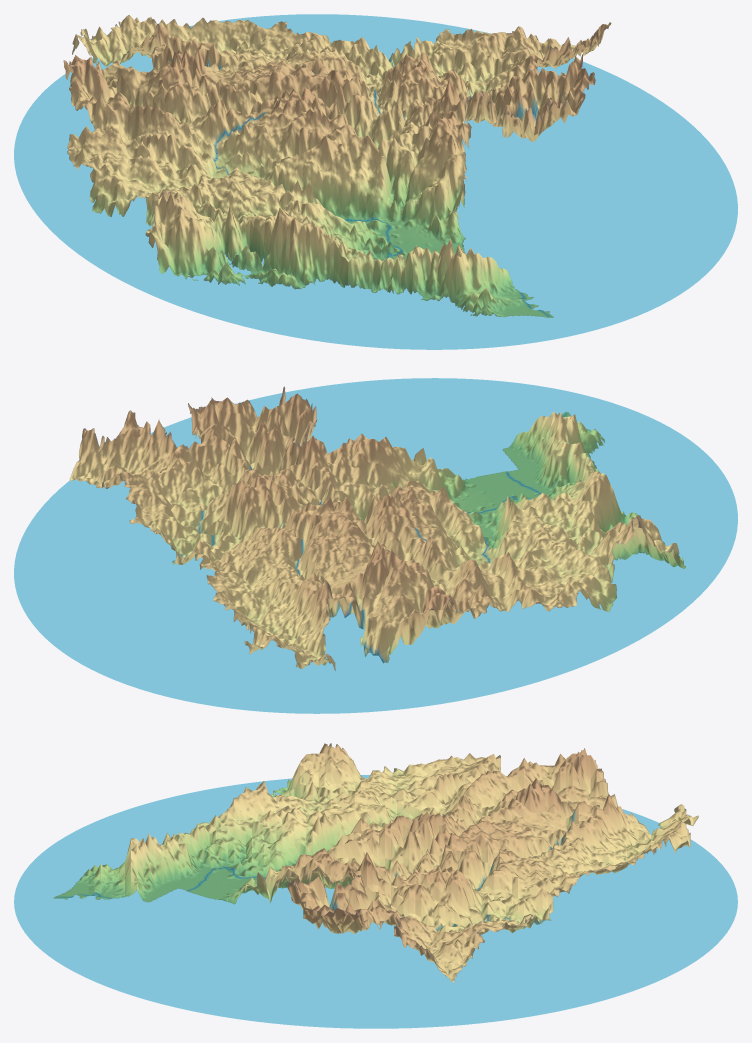
File: MNE-terrain.glb
3 renders of one model, top to bottom at view 1: azimuth 30°, elevation 25°; view 2: azimuth 150°, elevation 25°; view 3: azimuth 270°, elevation 25°, orthographic. The views are drawn at different scales.
Visible parts, largest first — view 1: Relevo com hidrografia; view 2: Relevo com hidrografia; view 3: Relevo com hidrografia.
Boxes of the visible parts, box(x1,y1,x2,y2) form: Relevo com hidrografia: box(14, 14, 737, 349); Relevo com hidrografia: box(14, 378, 737, 713); Relevo com hidrografia: box(14, 743, 737, 1028).
Size of the model in its own units: 1.49 by 0.2248 by 1.8.
Materials: 2 (1 with a texture image).
